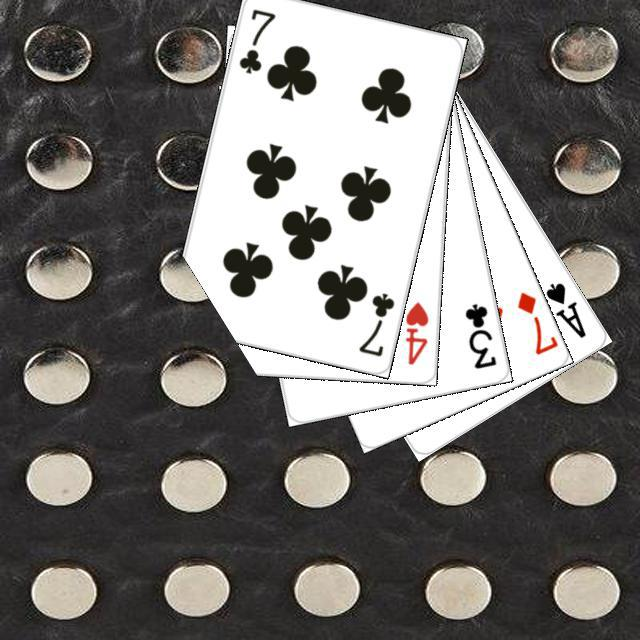3c: (460, 298, 498, 371)
4h: (400, 297, 430, 367)
7c: (234, 4, 277, 76), (353, 288, 396, 359)
7d: (512, 286, 558, 357)
As: (540, 277, 588, 340)
